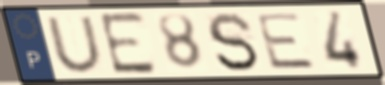4: (323, 9, 362, 72)
8: (157, 12, 204, 74)
E: (95, 10, 160, 77), (253, 11, 320, 71)
S: (204, 10, 263, 74)
U: (43, 14, 108, 75)
